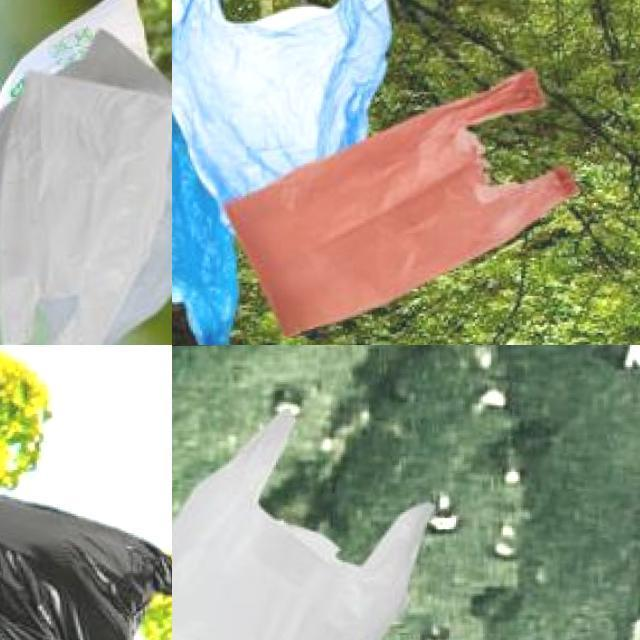waste: (221, 73, 583, 329), (172, 400, 437, 640), (0, 30, 172, 345), (172, 0, 406, 181), (0, 433, 172, 640), (172, 94, 242, 345)
